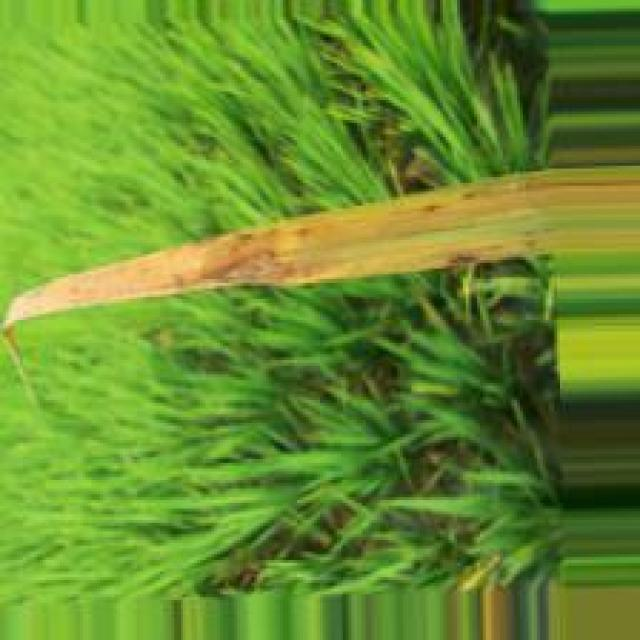Bacterial_Leaf_Blight: (13, 174, 550, 321)
